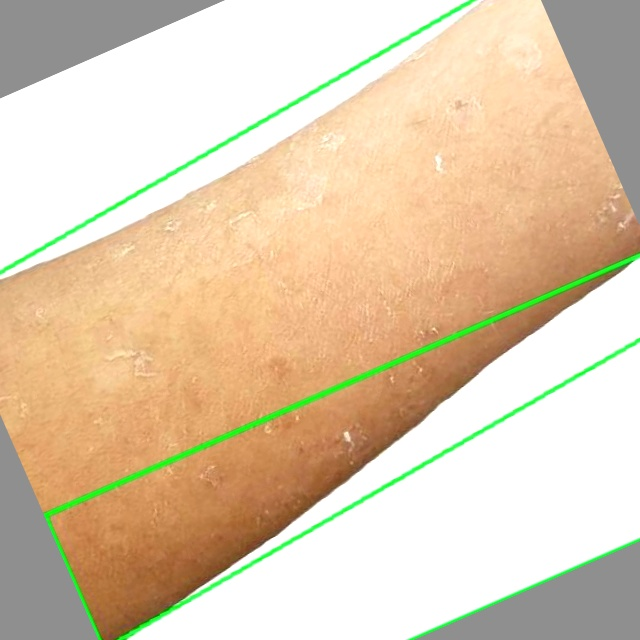Tinea Corporis: (0, 0, 639, 639), (45, 255, 639, 639)
